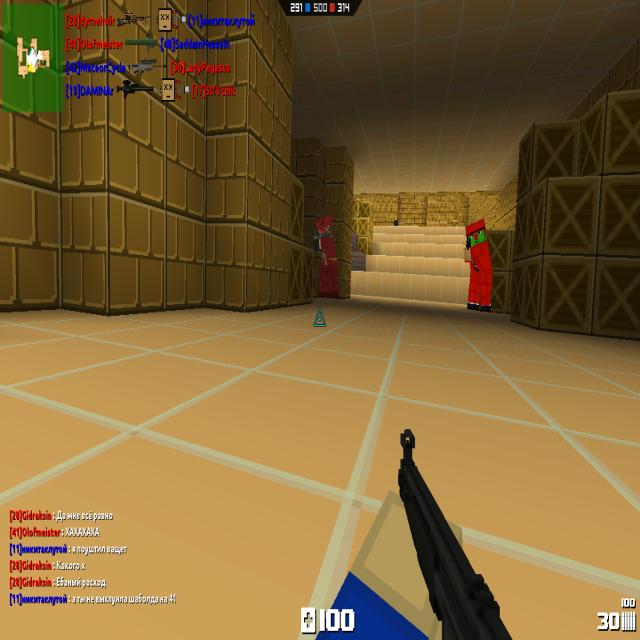enemy: (463, 218, 493, 312), (314, 212, 338, 300), (394, 220, 398, 226)
